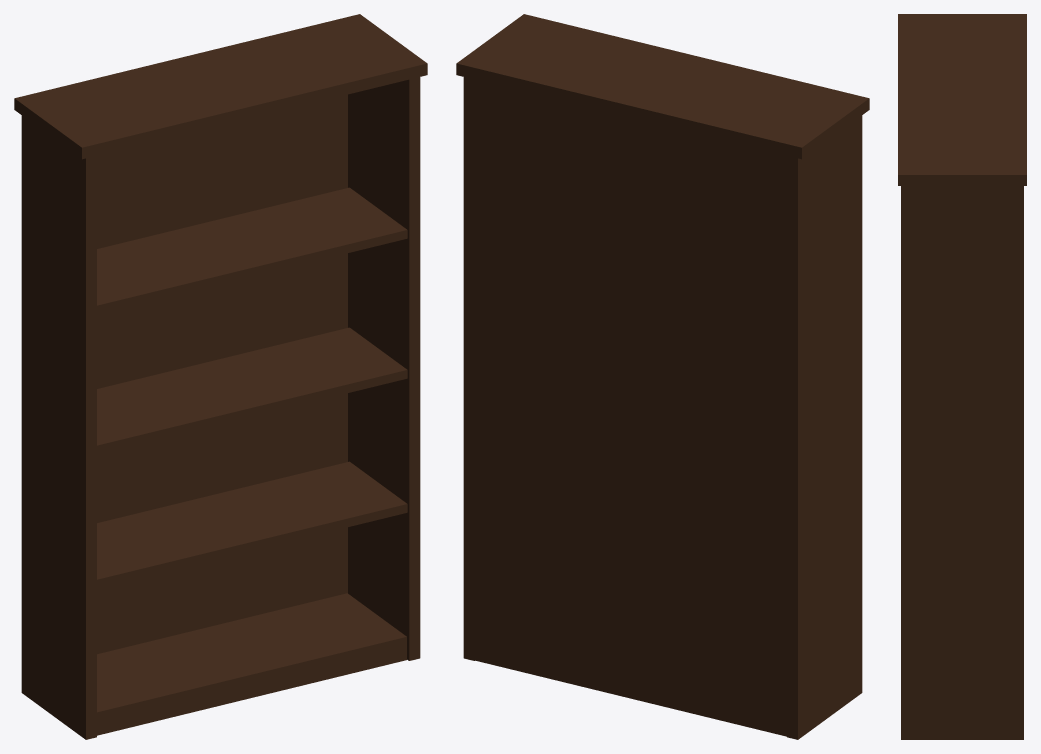
File: bookshelf_oak.glb
The picture shows the model from 3 angles, left to right: view 1: azimuth 30°, elevation 25°; view 2: azimuth 150°, elevation 25°; view 3: azimuth 270°, elevation 25°; orthographic projection. The views are drawn at different scales.
Parts seen in each view (by area): view 1: Part2, Part0, Part1, Part3, Part4, Part6, Part7, Part5; view 2: Part2, Part0, Part3, Part1; view 3: Part1, Part3.
Boxes of the visible parts, bbox=[...] form: Part2: bbox=[97, 94, 347, 654]; Part0: bbox=[21, 115, 96, 739]; Part1: bbox=[348, 77, 420, 660]; Part3: bbox=[14, 14, 427, 159]; Part4: bbox=[97, 593, 406, 735]; Part6: bbox=[97, 327, 407, 454]; Part7: bbox=[97, 187, 407, 314]; Part5: bbox=[97, 461, 407, 588]; Part2: bbox=[474, 79, 786, 736]; Part0: bbox=[787, 115, 862, 739]; Part3: bbox=[456, 14, 869, 159]; Part1: bbox=[463, 77, 474, 660]; Part1: bbox=[901, 186, 1023, 739]; Part3: bbox=[898, 14, 1026, 185].
Bounding box in the file's own units: 1.24 × 2.04 × 0.42.
